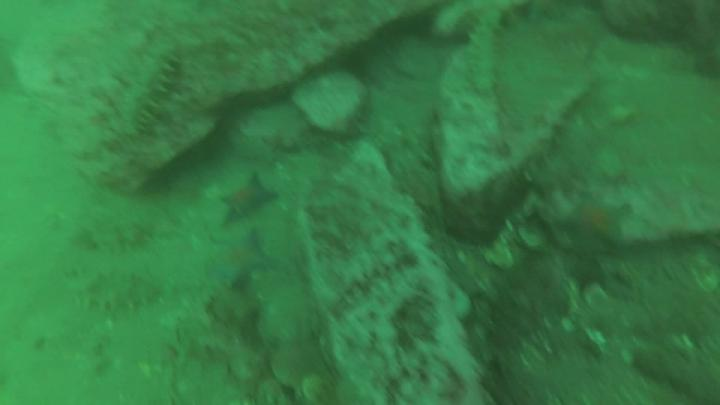holothurian: (117, 37, 184, 146), (65, 273, 165, 317), (468, 7, 504, 100), (74, 218, 158, 253)
starfish: (209, 236, 285, 292), (563, 192, 636, 250), (217, 171, 281, 230)
